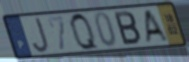0: (94, 11, 120, 50)
7: (46, 15, 67, 53)
A: (144, 8, 169, 45)
B: (112, 10, 143, 47)
J: (31, 16, 50, 54)
Q: (68, 11, 102, 52)
